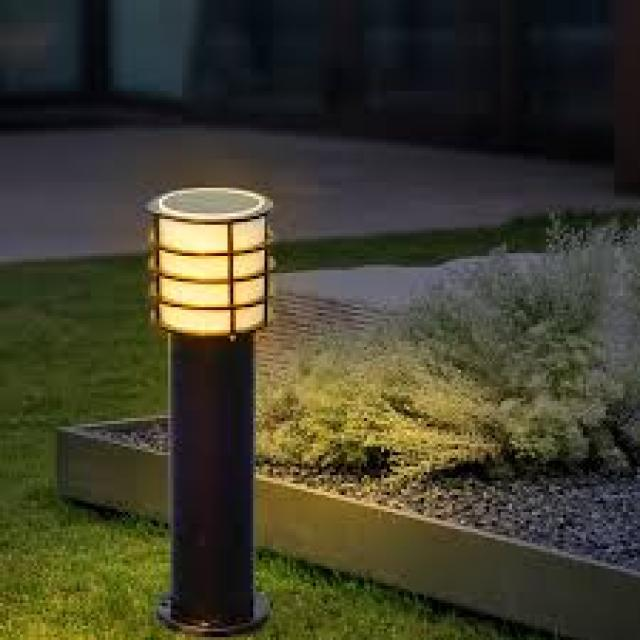bollard: (135, 162, 293, 639)
